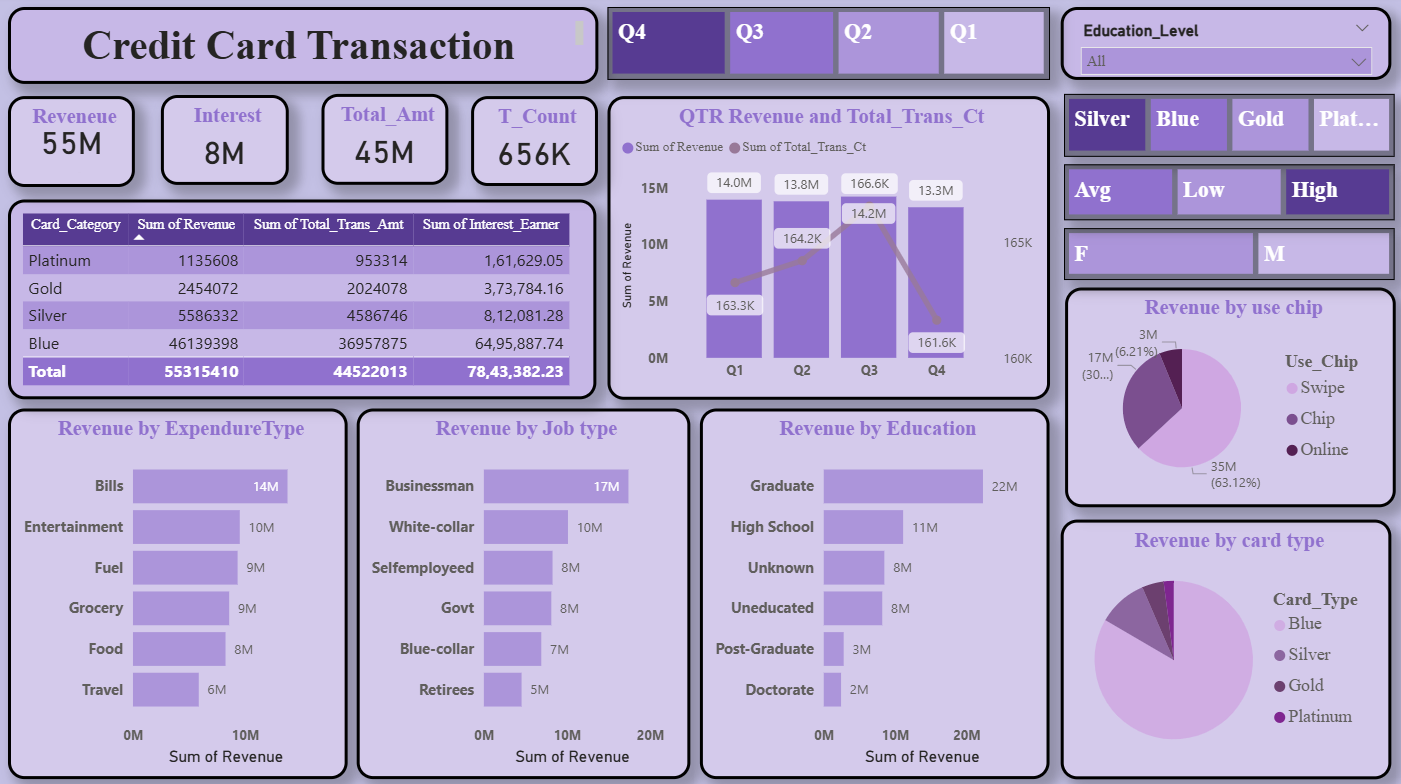

This screenshot's page, from the dashboard's own definition file:
{"tool":"powerbi","page":{"name":"Credit Card","canvas":[1280,720],"ordinal":0},"visuals":[{"type":"textbox","box":[9.6,9.6,537,70],"z":0},{"type":"lineStackedColumnComboChart","title":"QTR Revenue and Total_Trans_Ct","fields":{"Category":["cc_details.Qtr"],"Y":["Sum(cc_details.Revenue)"],"Y2":["Sum(cc_details.Total_Trans_Ct)"]},"box":[555.6,91.1,402.4,276.3],"z":1000},{"type":"barChart","title":"Revenue by ExpendureType","fields":{"Y":["Sum(cc_details.Revenue)"],"Category":["cc_details.Exp_Type"]},"box":[10,375.4,309.3,337.4],"z":2000},{"type":"barChart","title":"Revenue by Job type","fields":{"Y":["Sum(cc_details.Revenue)"],"Category":["cust_details.Customer_Job"]},"box":[327.4,375.4,303.3,337.4],"z":3000},{"type":"barChart","title":"Revenue by Education","fields":{"Y":["Sum(cc_details.Revenue)"],"Category":["cust_details.Education_Level"]},"box":[639.7,375.4,318.3,337.4],"z":4000},{"type":"pieChart","title":"Revenue by card type","fields":{"Category":["cc_details.Card_Category"],"Y":["Sum(cc_details.Revenue)"]},"box":[968.1,476.5,301.3,236.3],"z":5000},{"type":"pieChart","title":"Revenue by use chip","fields":{"Category":["cc_details.Use_Chip"],"Y":["Sum(cc_details.Revenue)"]},"box":[972.1,265.3,301.3,200.2],"z":6000},{"type":"tableEx","fields":{"Values":["cc_details.Card_Category","Sum(cc_details.Revenue)","Sum(cc_details.Total_Trans_Amt)","Sum(cc_details.Interest_Earner)"]},"box":[10,185.2,535.6,182.2],"z":7000},{"type":"card","title":"T_Count","fields":{"Values":["Sum(cc_details.Total_Trans_Ct)"]},"box":[431.5,91.1,115.1,82.1],"z":8000},{"type":"card","title":"Reveneue","fields":{"Values":["Sum(cc_details.Revenue)"]},"box":[9.6,90.8,115.5,82.5],"z":9000},{"type":"card","title":"Interest","fields":{"Values":["Sum(cc_details.Interest_Earner)"]},"box":[149.2,90.1,116.1,82.1],"z":10000},{"type":"card","title":"Total_Amt","fields":{"Values":["Sum(cc_details.Total_Trans_Amt)"]},"box":[295.3,89.1,115.1,83.1],"z":11000},{"type":"slicer","fields":{"Values":["cust_details.Education_Level"]},"box":[968.1,10,301.3,66.1],"z":12000},{"type":"treemap","fields":{"Group":["cc_details.Qtr"],"Values":["Avg(cc_details.Client_Num)"]},"box":[555.6,10,402.4,66.1],"z":13000},{"type":"treemap","fields":{"Group":["cust_details.Gender"],"Values":["CountNonNull(cc_details.Client_Num)"]},"box":[971.1,211.2,301.3,47.1],"z":14000},{"type":"treemap","fields":{"Values":["Avg(cc_details.Client_Num)"],"Group":["cc_details.Card_Category"]},"box":[971.1,89.1,301.3,57.1],"z":15000},{"type":"treemap","fields":{"Group":["cust_details.IncomeGroup"],"Values":["Avg(cc_details.Client_Num)"]},"box":[971.1,153.2,301.3,51.1],"z":16000}]}

Visuals, with their boxes in screenshot pixels (x1, y1, x2, y2), scaled from the page's 1280x720 canvas onto the 1401x784 screenshot:
textbox: [left=11, top=10, right=598, bottom=87]
"QTR Revenue and Total_Trans_Ct" lineStackedColumnComboChart: [left=608, top=99, right=1049, bottom=400]
"Revenue by ExpendureType" barChart: [left=11, top=409, right=349, bottom=776]
"Revenue by Job type" barChart: [left=358, top=409, right=690, bottom=776]
"Revenue by Education" barChart: [left=700, top=409, right=1049, bottom=776]
"Revenue by card type" pieChart: [left=1060, top=519, right=1389, bottom=776]
"Revenue by use chip" pieChart: [left=1064, top=289, right=1394, bottom=507]
tableEx - cc_details.Card_Category x Sum(cc_details.Revenue): [left=11, top=202, right=597, bottom=400]
"T_Count" card: [left=472, top=99, right=598, bottom=189]
"Reveneue" card: [left=11, top=99, right=137, bottom=189]
"Interest" card: [left=163, top=98, right=290, bottom=188]
"Total_Amt" card: [left=323, top=97, right=449, bottom=188]
slicer - cust_details.Education_Level: [left=1060, top=11, right=1389, bottom=83]
treemap - cc_details.Qtr x Avg(cc_details.Client_Num): [left=608, top=11, right=1049, bottom=83]
treemap - cust_details.Gender x CountNonNull(cc_details.Client_Num): [left=1063, top=230, right=1393, bottom=281]
treemap - Avg(cc_details.Client_Num) x cc_details.Card_Category: [left=1063, top=97, right=1393, bottom=159]
treemap - cust_details.IncomeGroup x Avg(cc_details.Client_Num): [left=1063, top=167, right=1393, bottom=222]
